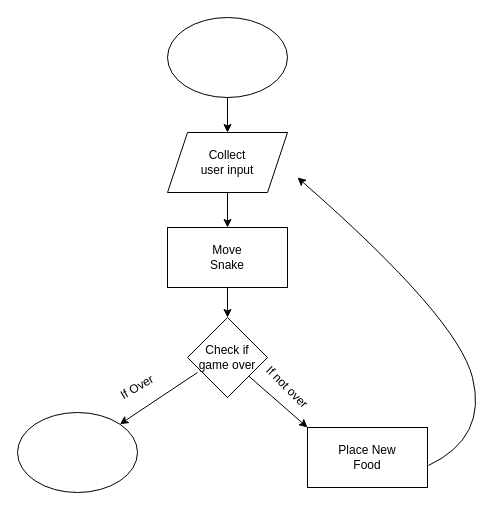
The diagram is 494 pixels wide and 510 high, and some of its shapes have lost their labels. The box of each missing label's shape, as (x1, y1, x2, y2) in pixels:
End game: (16, 412, 138, 492)
Start Program: (166, 16, 288, 98)
